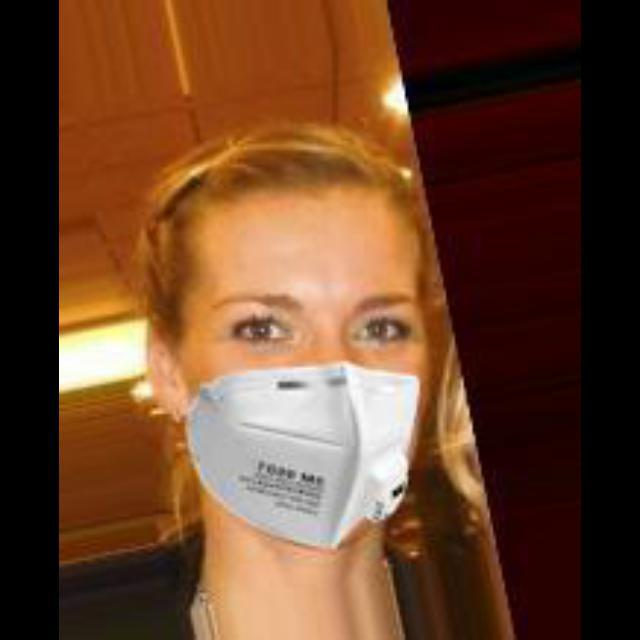suspicion: (140, 179, 448, 543)
